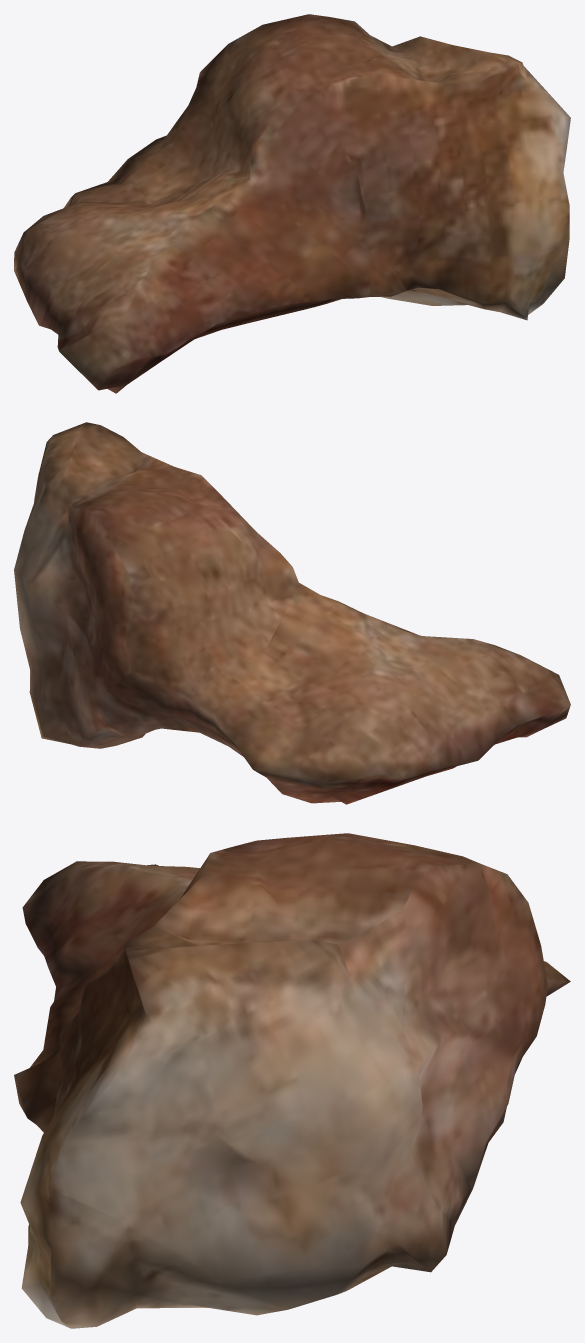
3 views of the same model, one above another, from view 1: azimuth 30°, elevation 25°; view 2: azimuth 150°, elevation 25°; view 3: azimuth 270°, elevation 25° (orthographic). The views are drawn at different scales.
Parts seen in each view (by area): view 1: stone_01_lod1; view 2: stone_01_lod1; view 3: stone_01_lod1.
Boxes of the visible parts, left/top/right/bottom form: stone_01_lod1: left=14, top=14, right=570, bottom=393; stone_01_lod1: left=14, top=422, right=570, bottom=804; stone_01_lod1: left=14, top=833, right=570, bottom=1328.
Bounding box in the file's own units: 0.1465 × 0.0704 × 0.0875.
1 material, 1 textured.
